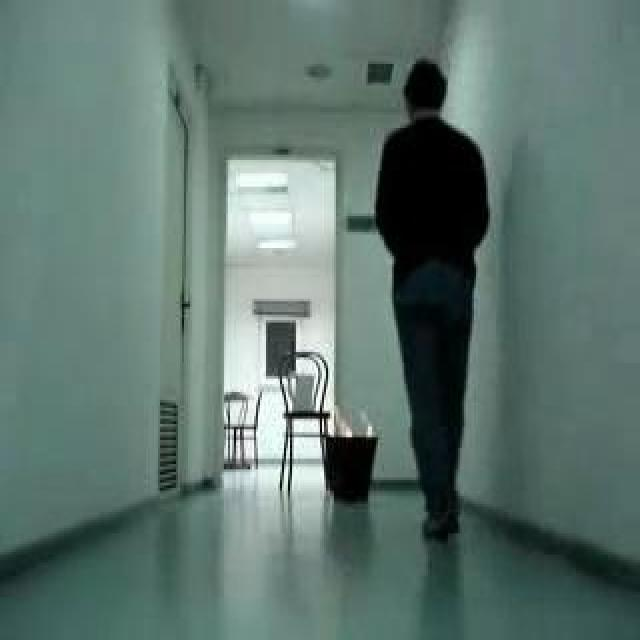Fire: (338, 413, 378, 438)
